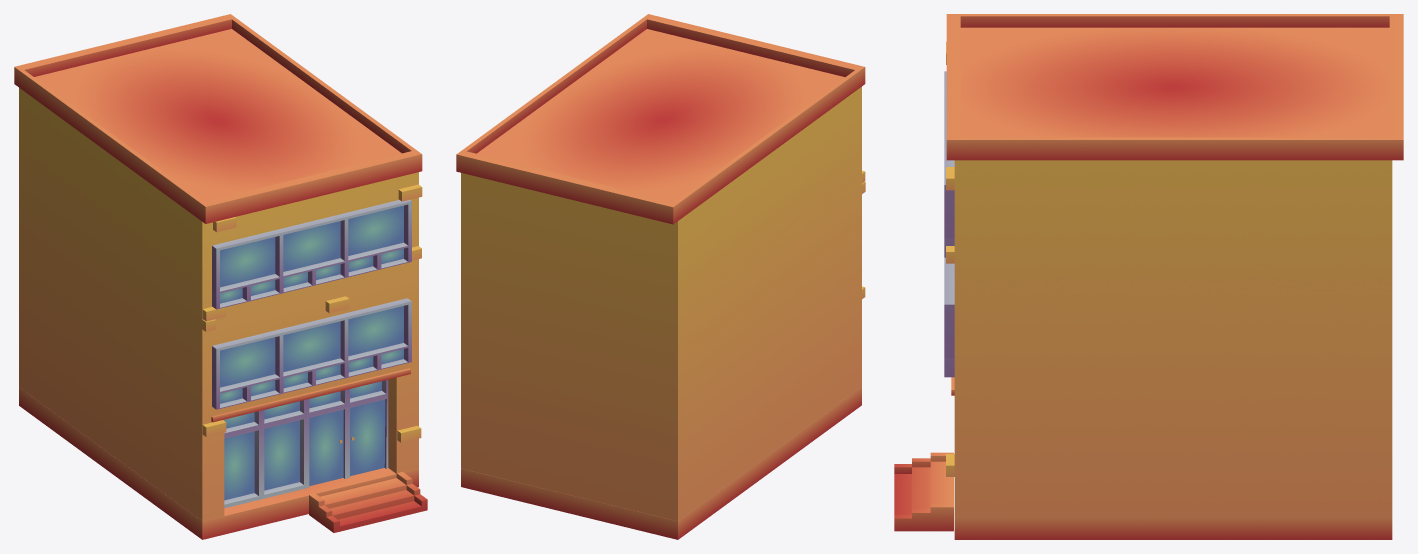
The picture shows the model from 3 angles, left to right: view 1: azimuth 30°, elevation 25°; view 2: azimuth 150°, elevation 25°; view 3: azimuth 270°, elevation 25°; orthographic projection. The views are drawn at different scales.
Parts seen in each view (by area): view 1: SM_3F_R_04; view 2: SM_3F_R_04; view 3: SM_3F_R_04.
Part boxes in pixels (x1,y1,x2,y2): SM_3F_R_04: (14, 14, 427, 539); SM_3F_R_04: (456, 14, 865, 539); SM_3F_R_04: (894, 14, 1403, 539).
Size of the model in its own units: 7.71 by 13.17 by 11.44.
